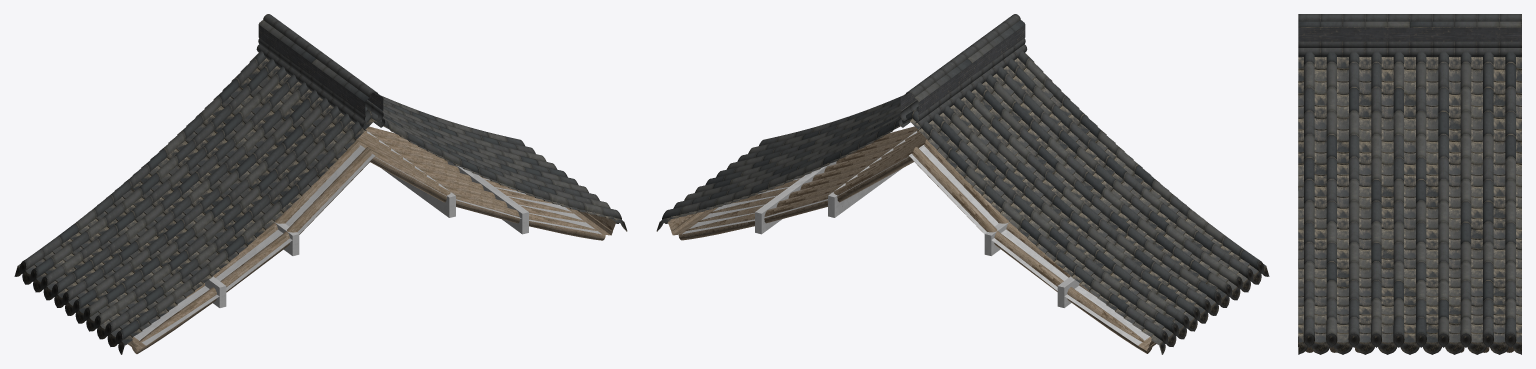
File: SM_GPG_Roof01a.fbx
The picture shows the model from 3 angles, left to right: view 1: azimuth 30°, elevation 25°; view 2: azimuth 150°, elevation 25°; view 3: azimuth 270°, elevation 25°; orthographic projection. The views are drawn at different scales.
Parts seen in each view (by area): view 1: SM_GPG_Roof01a; view 2: SM_GPG_Roof01a; view 3: SM_GPG_Roof01a.
Boxes of the visible parts, box(x1,y1,x2,y2) form: SM_GPG_Roof01a: box(14, 14, 627, 354); SM_GPG_Roof01a: box(656, 14, 1269, 354); SM_GPG_Roof01a: box(1298, 14, 1521, 354).
Size of the model in its own units: 822 by 300 by 325.
Materials: 2 (2 with a texture image).
